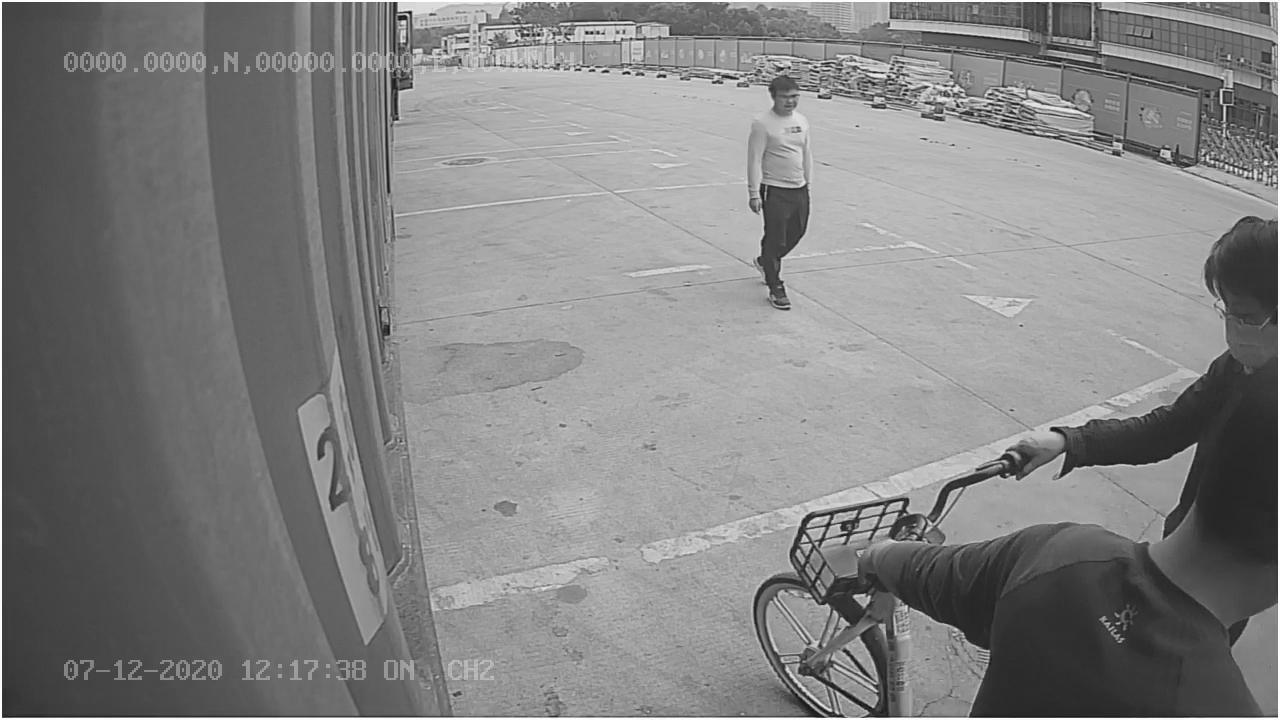person: (746, 71, 822, 309)
